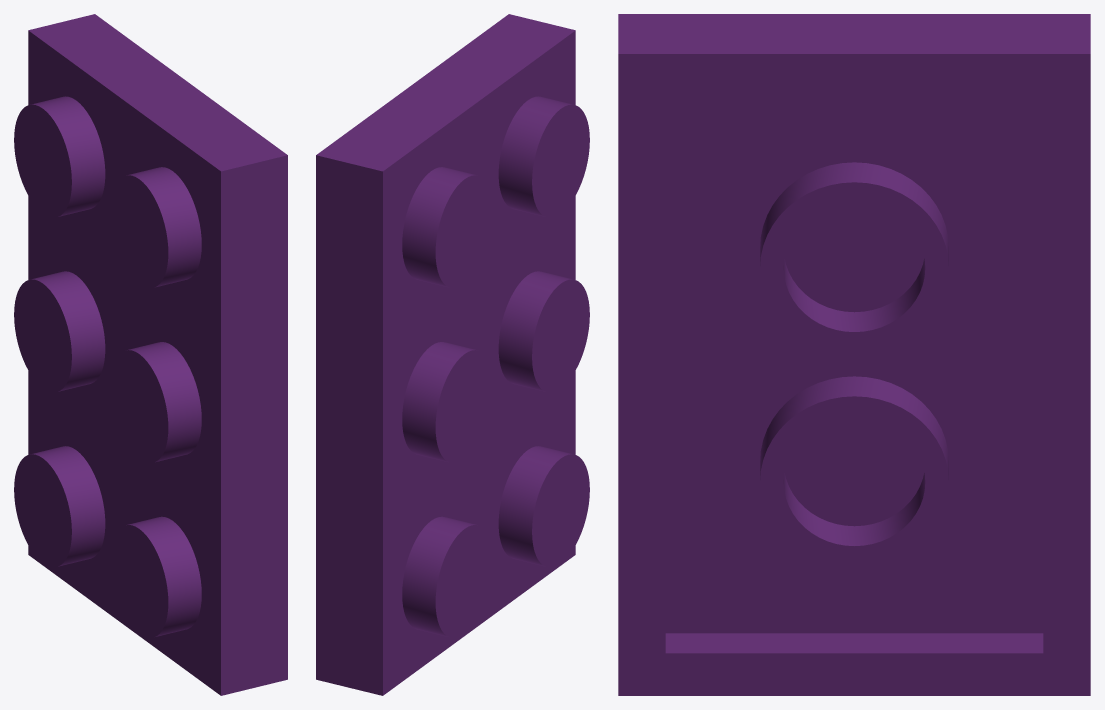
File: plate2*3_medium_lavender.obj
The picture shows the model from 3 angles, left to right: view 1: azimuth 30°, elevation 25°; view 2: azimuth 150°, elevation 25°; view 3: azimuth 270°, elevation 25°; orthographic projection. The views are drawn at different scales.
Bounding box in the file's own units: 12 × 60 × 40.
